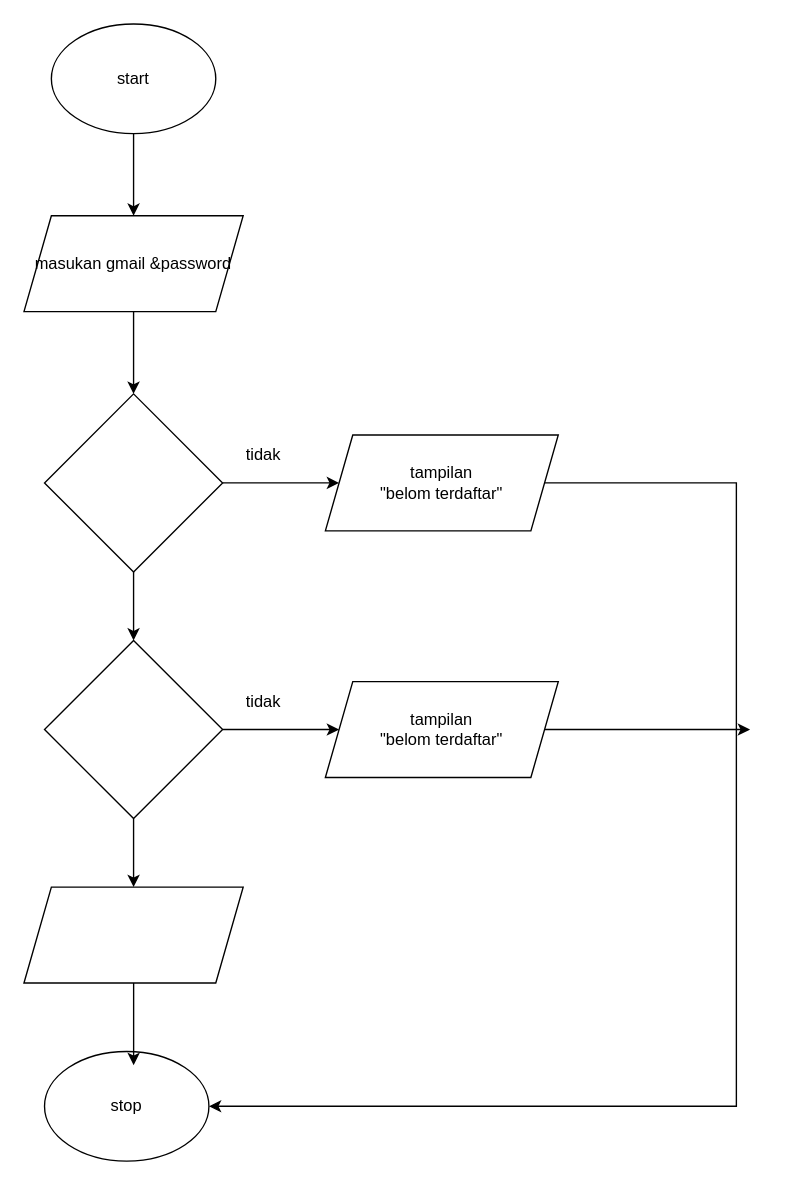
The diagram is 785 pixels wide and 1185 high, and some of its shapes have lost their labels. The box of each missing label's shape, as (x1, y1, x2, y2) in pixels:
apakah gmail & password sudah sesuai?: (43, 639, 223, 819)
apakah gmail sudah terdaftar: (43, 393, 223, 572)
tampilkan "anda berhasil masuk": (23, 886, 243, 983)
